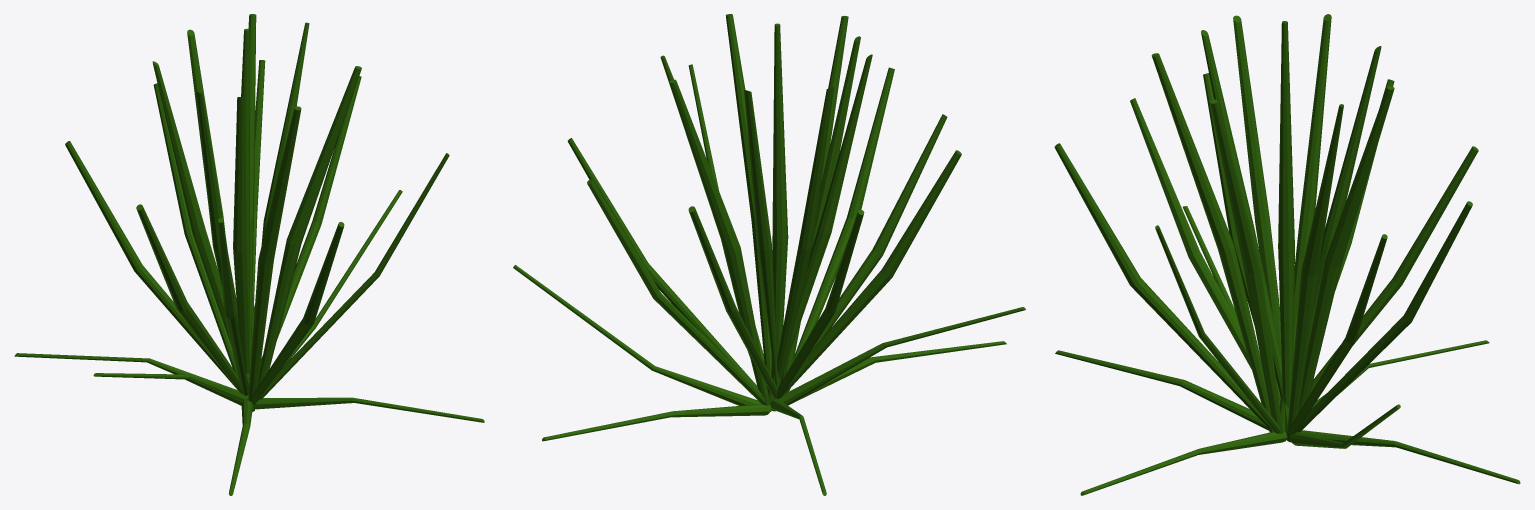
File: green_grass.obj
3 renders of one model, left to right at view 1: azimuth 30°, elevation 25°; view 2: azimuth 150°, elevation 25°; view 3: azimuth 270°, elevation 25°, orthographic. The views are drawn at different scales.
Visible parts, largest first — view 1: p1-green_Cylinder.040; view 2: p1-green_Cylinder.040; view 3: p1-green_Cylinder.040.
Part boxes in pixels (x1=…): p1-green_Cylinder.040: x1=14, y1=14, x2=484, y2=495; p1-green_Cylinder.040: x1=513, y1=14, x2=1025, y2=495; p1-green_Cylinder.040: x1=1054, y1=14, x2=1520, y2=495.
Bounding box in the file's own units: 2.02 × 1.8 × 1.83.
